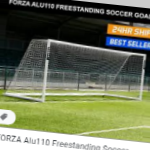goals: (5, 37, 147, 105)
